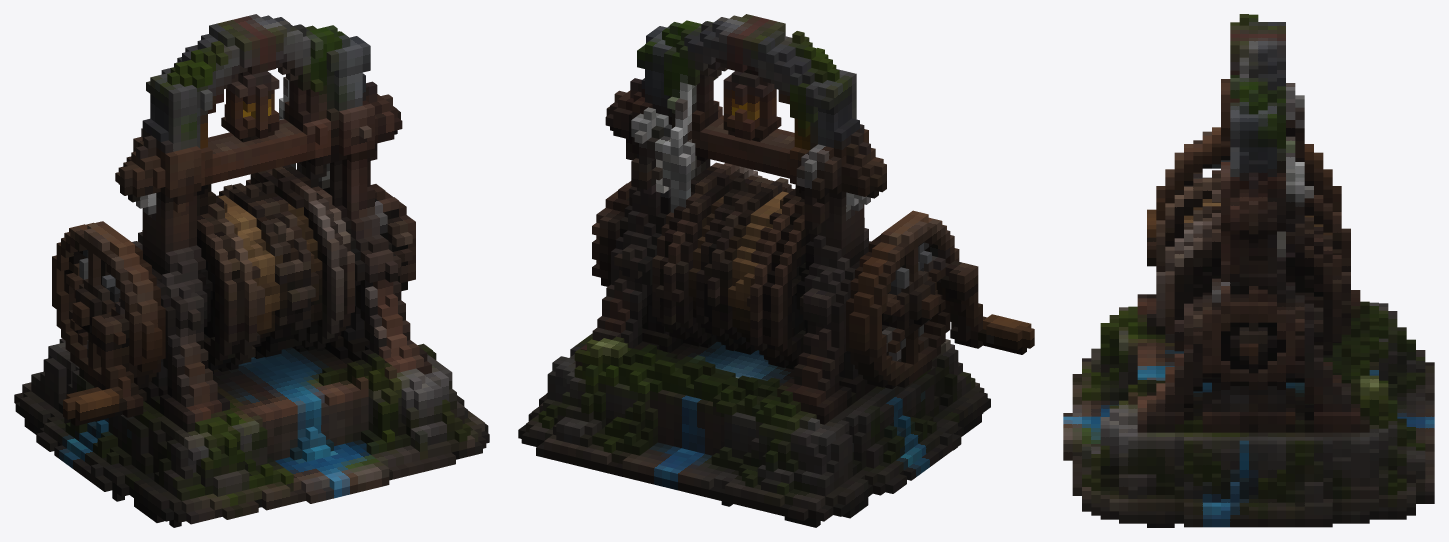
The model's file is u_treuil.glb.
3 views of the same model, side by side, from view 1: azimuth 30°, elevation 25°; view 2: azimuth 150°, elevation 25°; view 3: azimuth 270°, elevation 25° (orthographic). The views are drawn at different scales.
Parts seen in each view (by area): view 1: treuil_body; view 2: treuil_body; view 3: treuil_body.
Boxes of the visible parts, box(x1,y1,x2,y2) form: treuil_body: box(14, 14, 489, 527); treuil_body: box(518, 14, 1034, 527); treuil_body: box(1063, 14, 1434, 527).
Size of the model in its own units: 0.8125 by 0.7656 by 0.625.
1 material, 1 textured.
